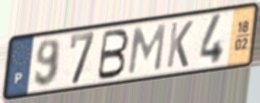4: (198, 12, 226, 69)
7: (68, 29, 97, 87)
9: (33, 37, 61, 89)
B: (95, 27, 131, 82)
K: (165, 19, 195, 70)
M: (126, 22, 168, 76)
